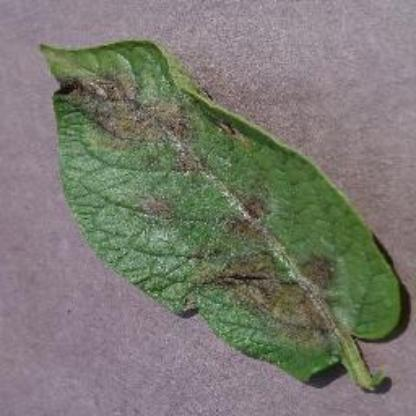Late-Blight: (33, 32, 409, 398)
